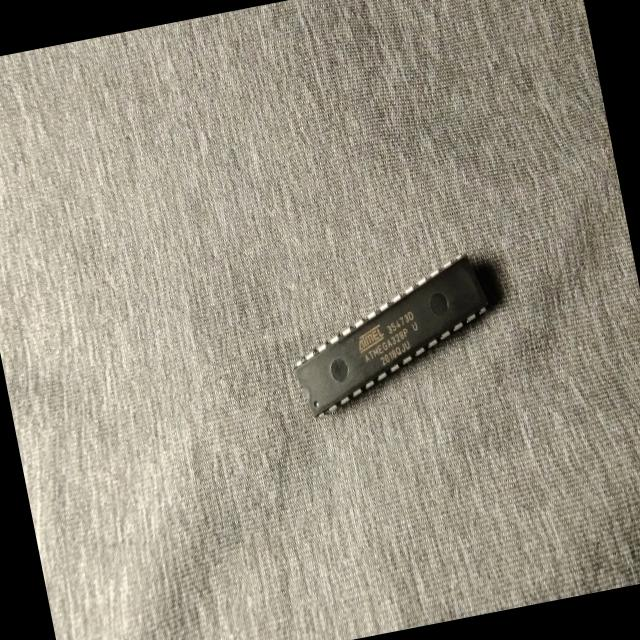atmega: (276, 248, 507, 424)
